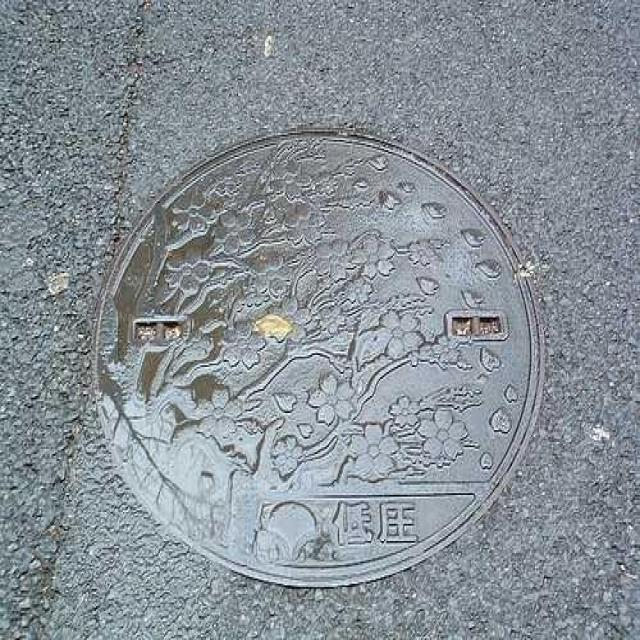manhole: (96, 132, 542, 587)
